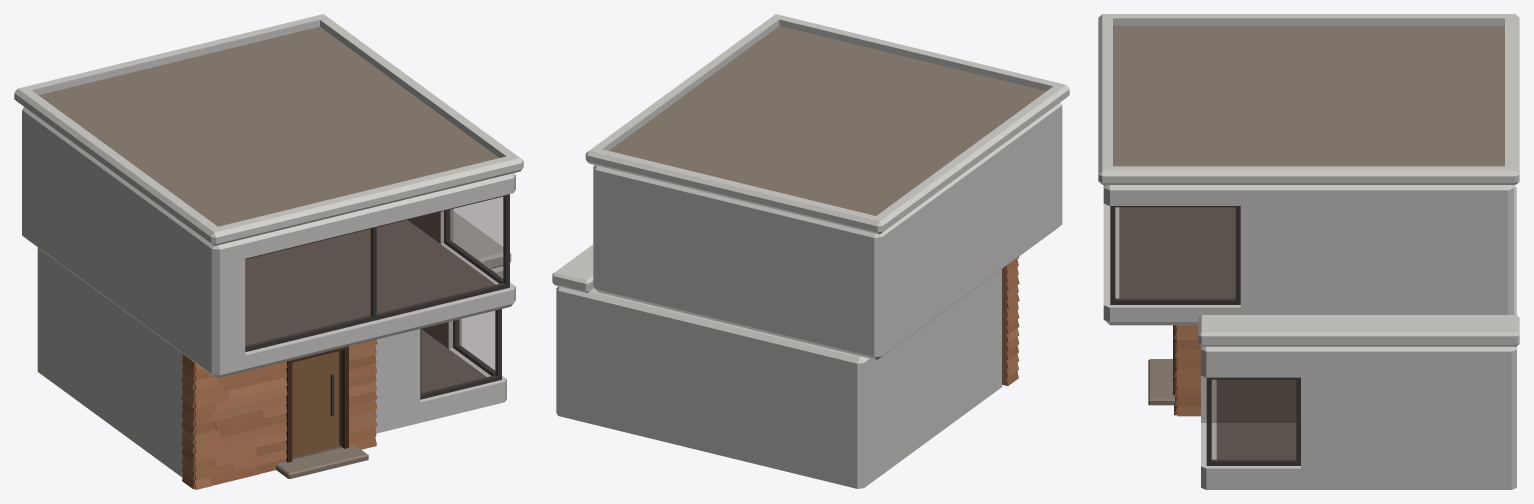
The model's file is modern-cube-house-453bc4.glb.
3 renders of one model, left to right at view 1: azimuth 30°, elevation 25°; view 2: azimuth 150°, elevation 25°; view 3: azimuth 270°, elevation 25°, orthographic. The views are drawn at different scales.
Visible parts, largest first — view 1: house, glazing, door-leaf; view 2: house; view 3: house, glazing.
Part boxes in pixels (bbox=[...]): house: bbox=[14, 14, 523, 489]; glazing: bbox=[246, 197, 503, 393]; door-leaf: bbox=[292, 351, 339, 457]; house: bbox=[552, 14, 1069, 488]; house: bbox=[1098, 14, 1519, 489]; glazing: bbox=[1116, 208, 1295, 459].
Size of the model in its own units: 8 by 6.3 by 8.
